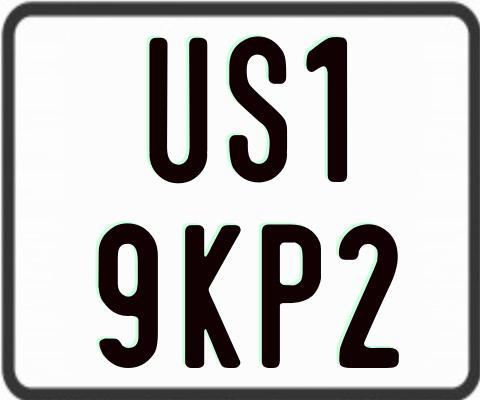1: (305, 37, 350, 185)
2: (339, 224, 405, 369)
9: (95, 220, 157, 368)
K: (183, 223, 240, 368)
P: (262, 221, 327, 371)
S: (227, 35, 288, 183)
U: (146, 38, 208, 187)
